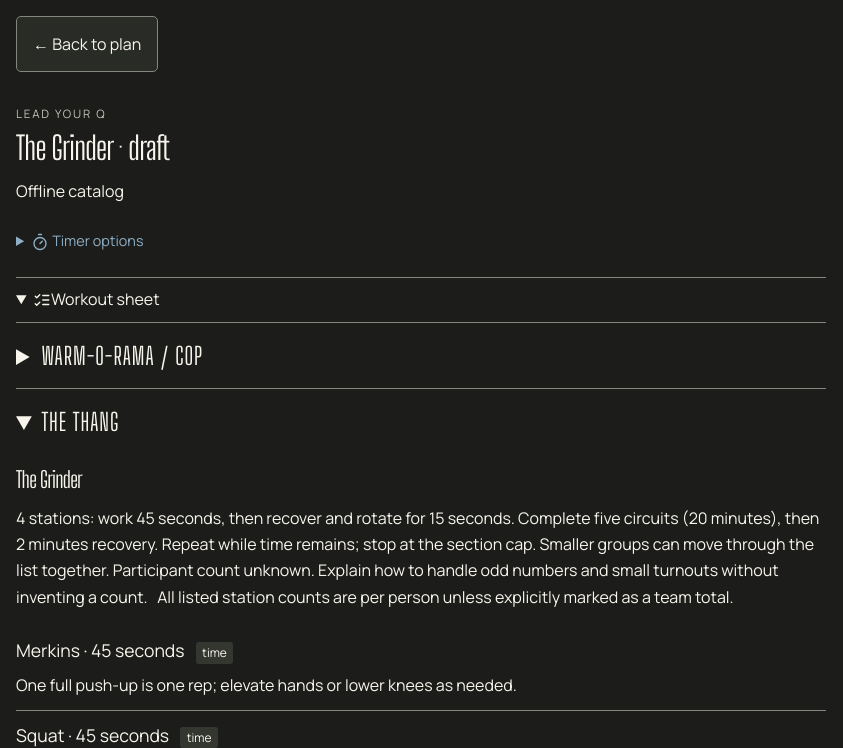
puts timer choices behind a disclosure and keeps counting explicit
Check: the element named "Workout to lead" shows "time", box [202,644,227,661]
Click the heading "Timer options".
click(87, 241)  # box [31,231,144,251]
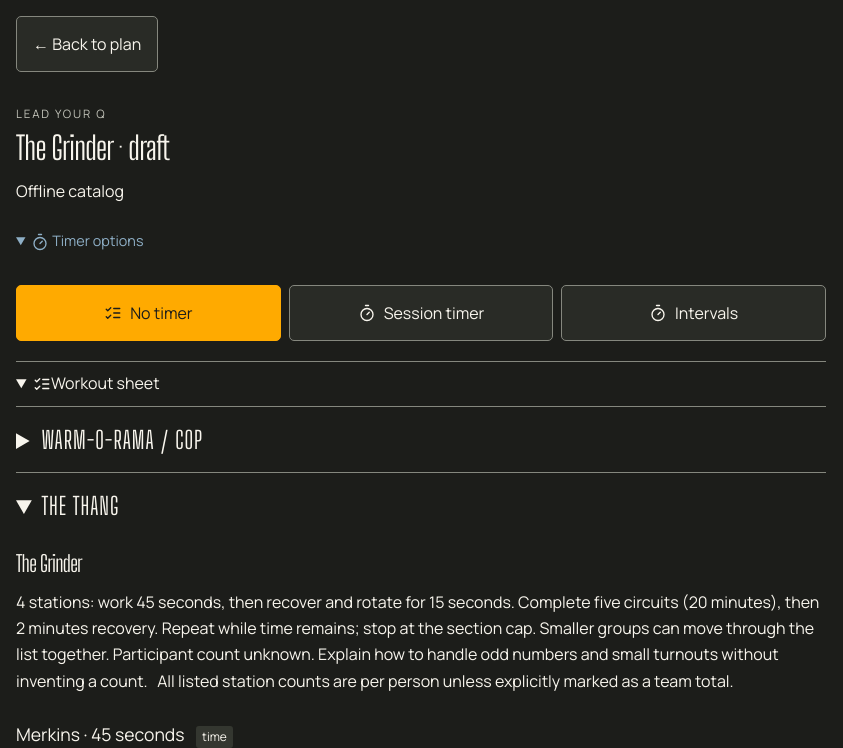
Check: the message reads "Offline catalog", box [16,180,124,202]
Check: the button "Session timer" is shown, box [289,285,553,341]
